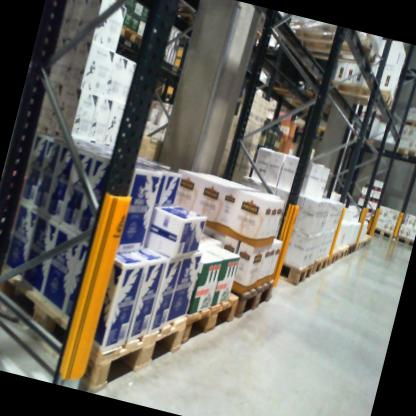pallet: (0, 246, 197, 412), (173, 272, 246, 365), (276, 18, 385, 78), (219, 255, 282, 329), (262, 74, 336, 115), (326, 75, 398, 116), (272, 253, 315, 292), (118, 17, 151, 52), (309, 249, 332, 280), (394, 224, 416, 250), (369, 223, 395, 243), (393, 139, 416, 161), (332, 241, 351, 262), (326, 248, 342, 268), (399, 114, 416, 132), (349, 237, 364, 255), (344, 241, 357, 257), (359, 238, 368, 250)
